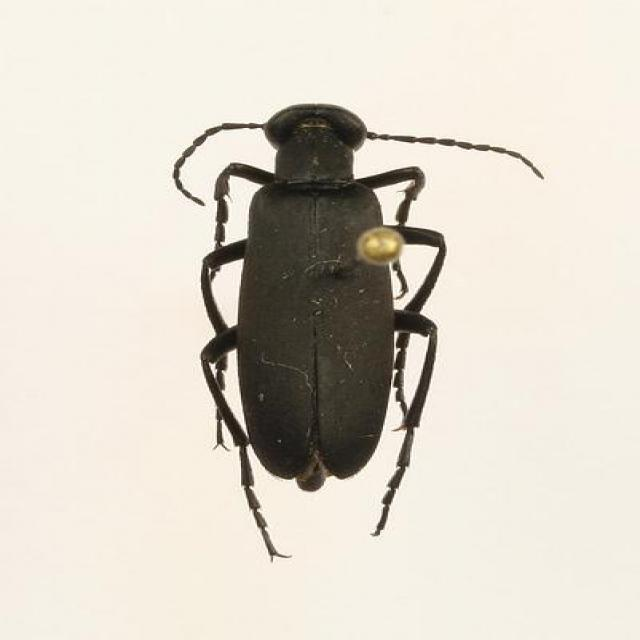BlisterBeetle-Adult-: (143, 79, 551, 567)
